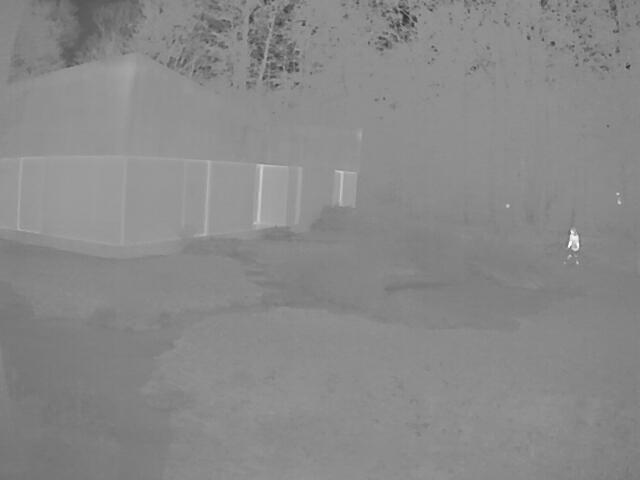person: (565, 226, 578, 266)
